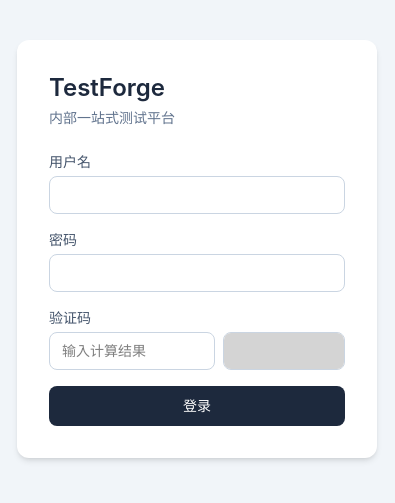
Test: LoginPage › 登录失败展示错误信息并刷新验证码
Type "admin" into the field labelled "用户名" at (197, 195), box [49, 176, 345, 214]
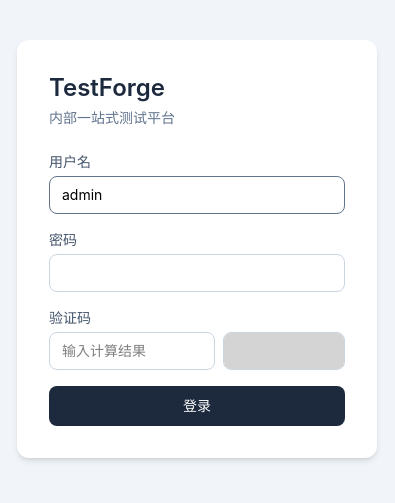
Type "admin123" into the password field labelled "密码" at (197, 273), box [49, 254, 345, 292]
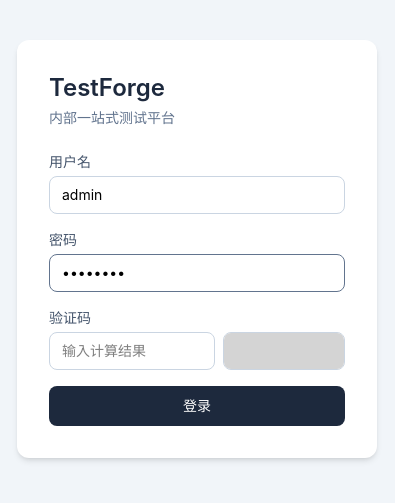
Type "1" into the field labelled "验证码" at (132, 351), box [49, 332, 215, 370]
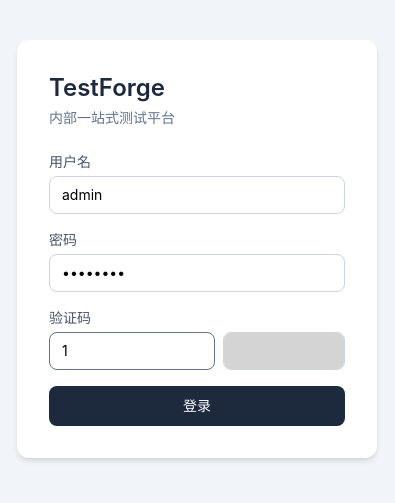
Click the button "登录" at (197, 406), box [49, 386, 345, 426]
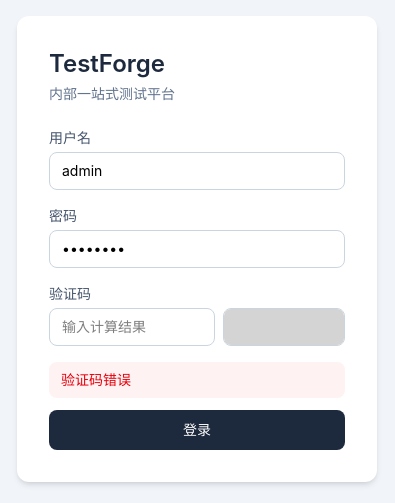
Expected: the message reads "验证码错误", [61, 371, 131, 388]
